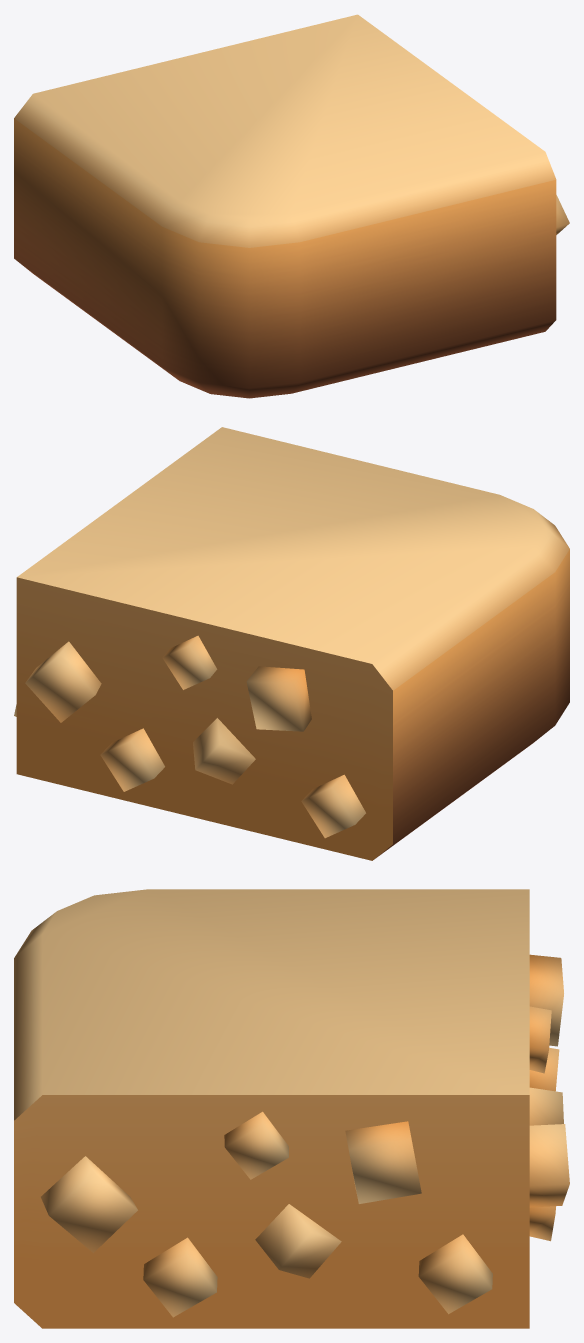
The model's file is m_Brownie03_Slice01.fbx.
3 views of the same model, one above another, from view 1: azimuth 30°, elevation 25°; view 2: azimuth 150°, elevation 25°; view 3: azimuth 270°, elevation 25° (orthographic). The views are drawn at different scales.
Parts seen in each view (by area): view 1: m_Brownie03_Slice01; view 2: m_Brownie03_Slice01; view 3: m_Brownie03_Slice01.
Part boxes in pixels (x1=…): m_Brownie03_Slice01: x1=14, y1=14, x2=569, y2=398; m_Brownie03_Slice01: x1=14, y1=427, x2=569, y2=860; m_Brownie03_Slice01: x1=14, y1=889, x2=569, y2=1328.
Bounding box in the file's own units: 10.78 × 5 × 10.78.
